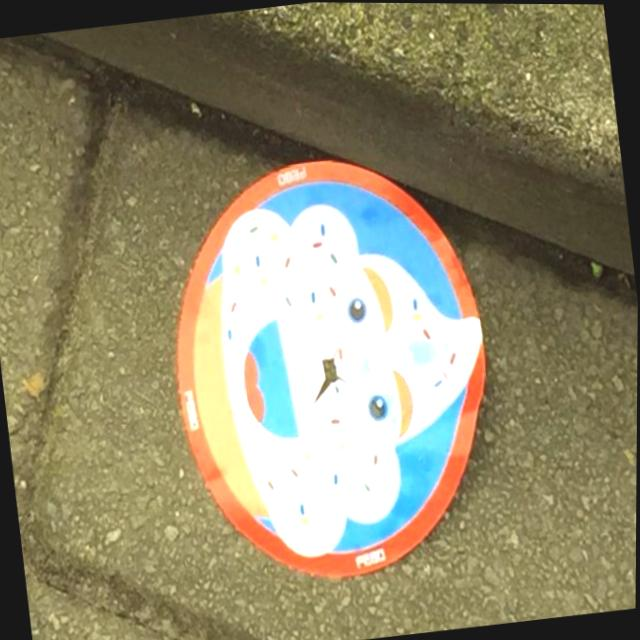Paper: (145, 134, 519, 599)
